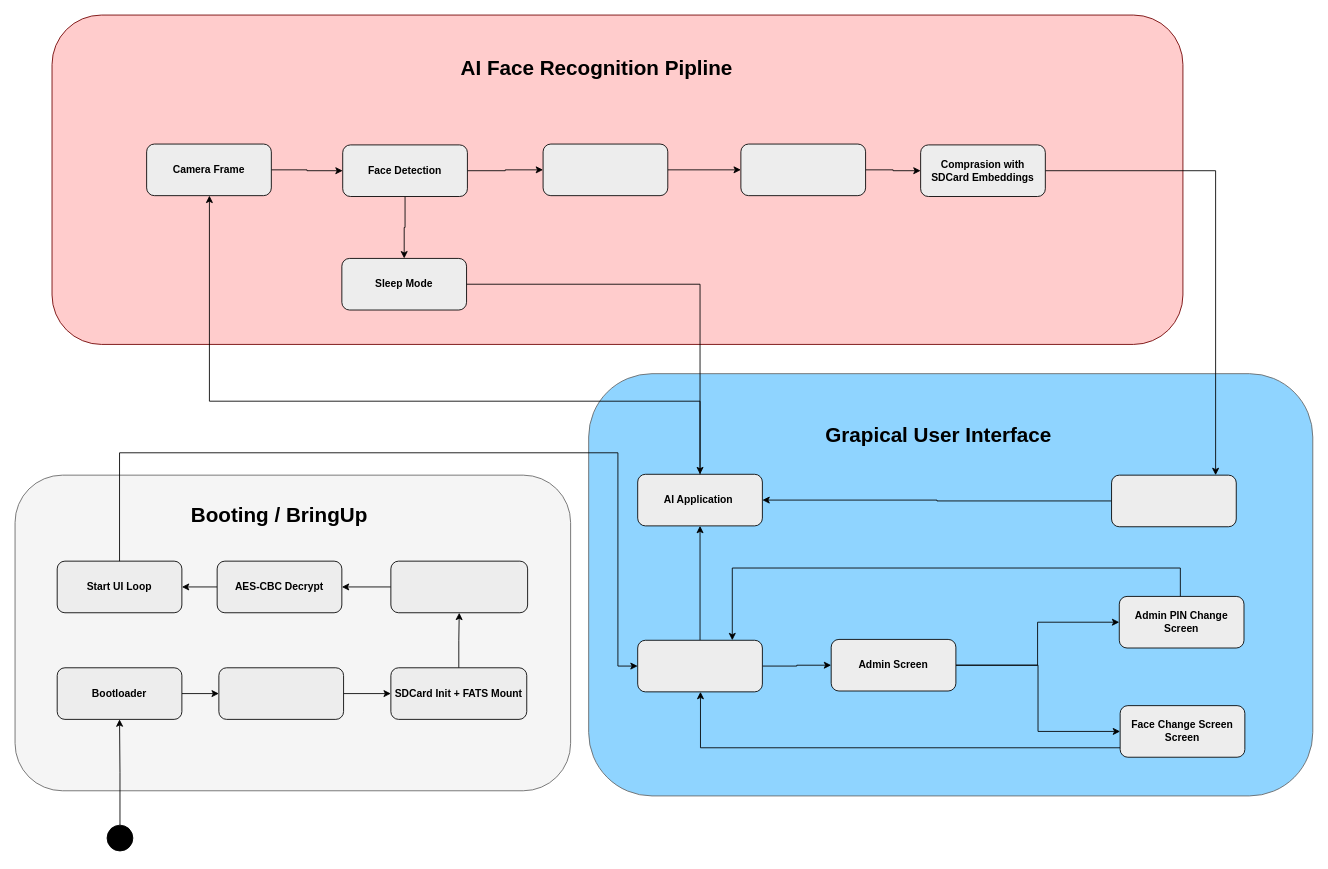
This 1328x869 diagram has some shape labels left out. Here are the shapes that lost their labels. From the top down, the box of each, then its label:
(542, 143, 668, 196): Face Crop
(740, 143, 866, 196): Face Recognition
(1111, 474, 1236, 527): PIN Mode Screen
(390, 560, 528, 613): Embeddings Stored in RAM
(637, 639, 762, 692): Start Screen
(218, 667, 344, 719): System Initialization
